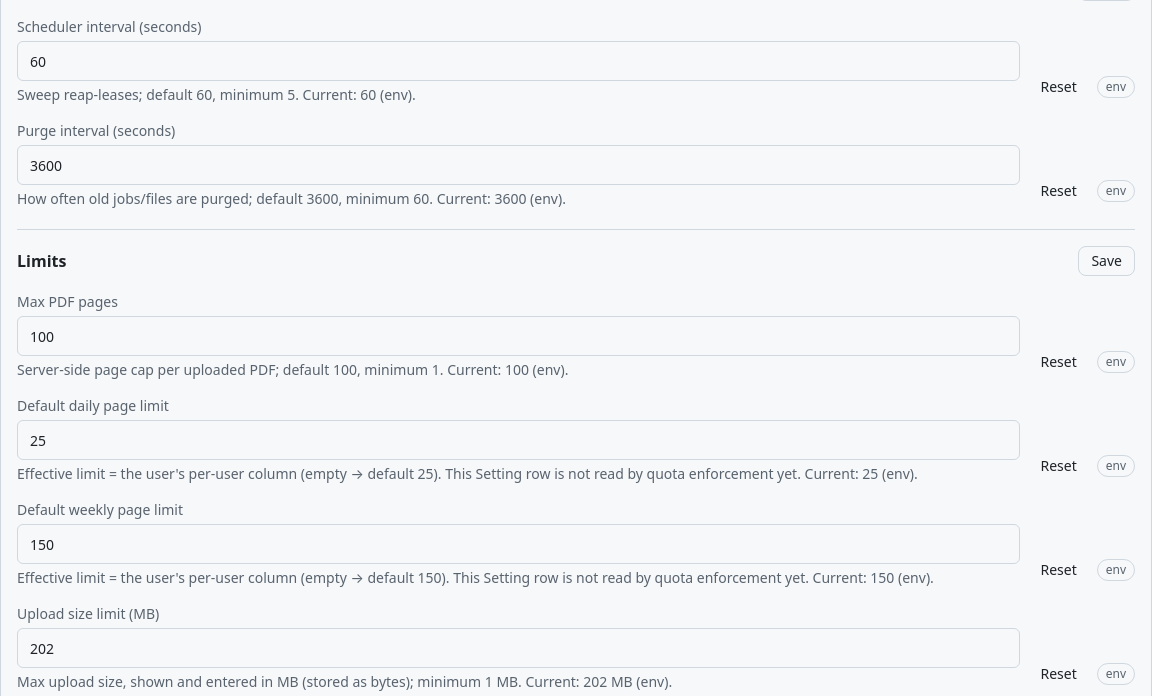
Test: reset về env: DELETE row → badge env
(page scrolled)
Replace the text in the number field with test id "input-max-pages" with "42" at [519, 336], box [17, 316, 1020, 356]
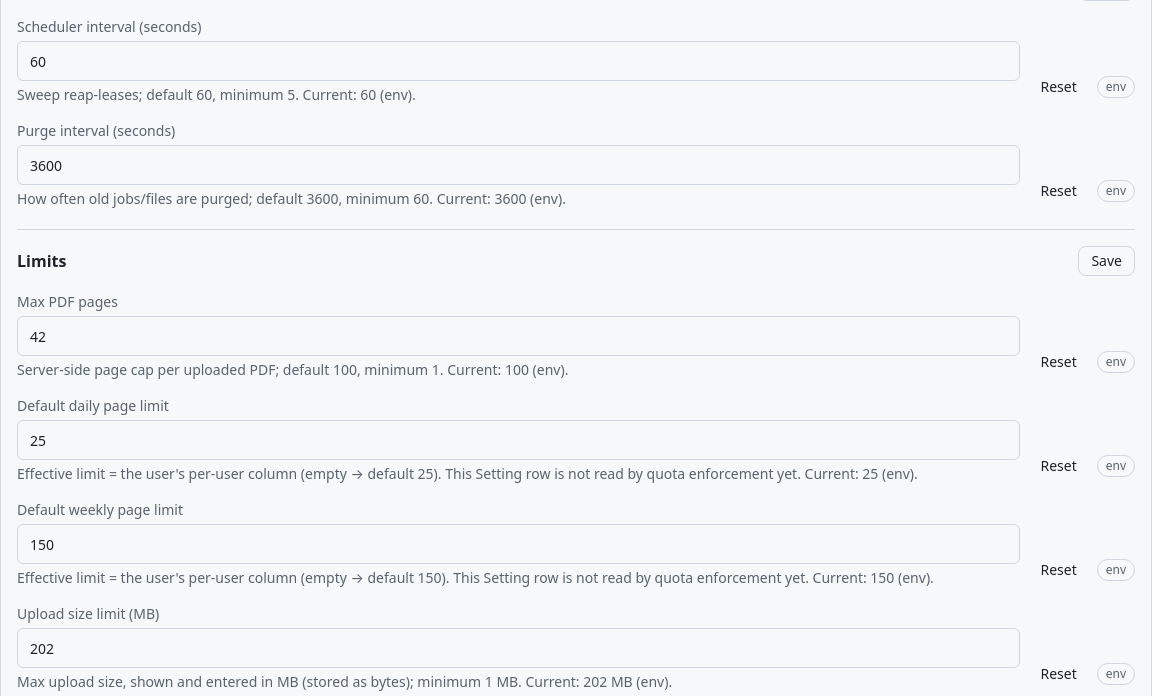
Click the button with test id "btn-save-limits".
click(1107, 261)  # box [1078, 246, 1135, 276]
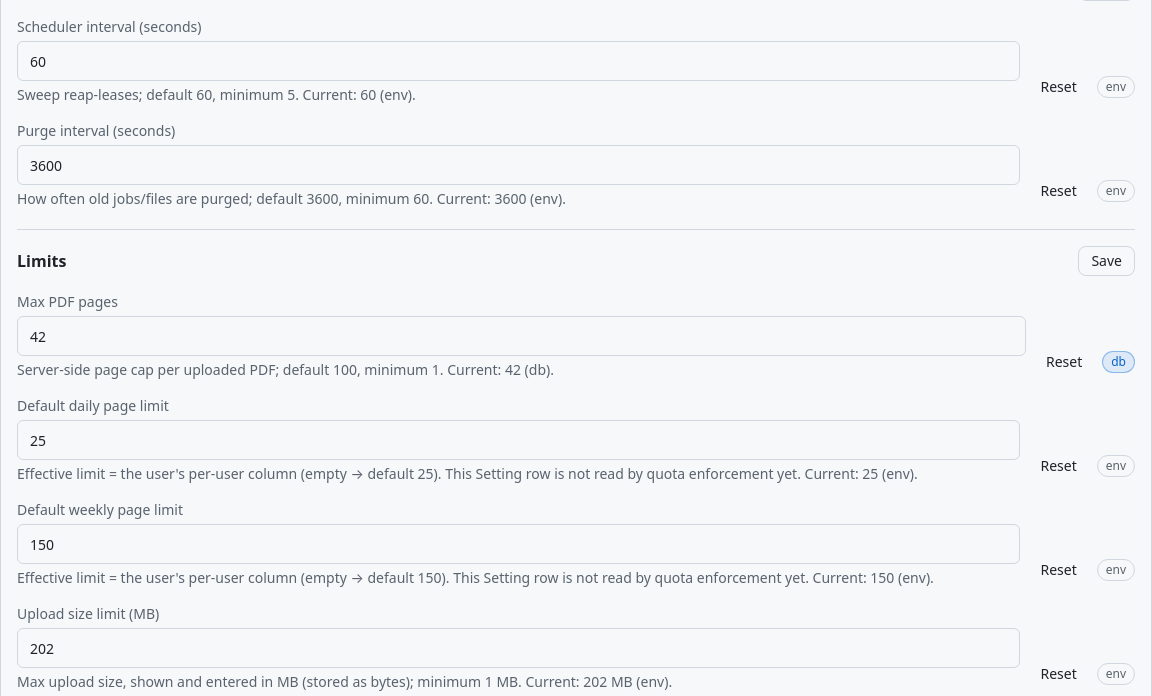
Expected: the text with test id "source-max-pages" reads "db", [1111, 353, 1126, 370]
# reset → DELETE + badge về env
Click the button with test id "reset-max-pages".
click(1064, 362)  # box [1034, 348, 1094, 376]
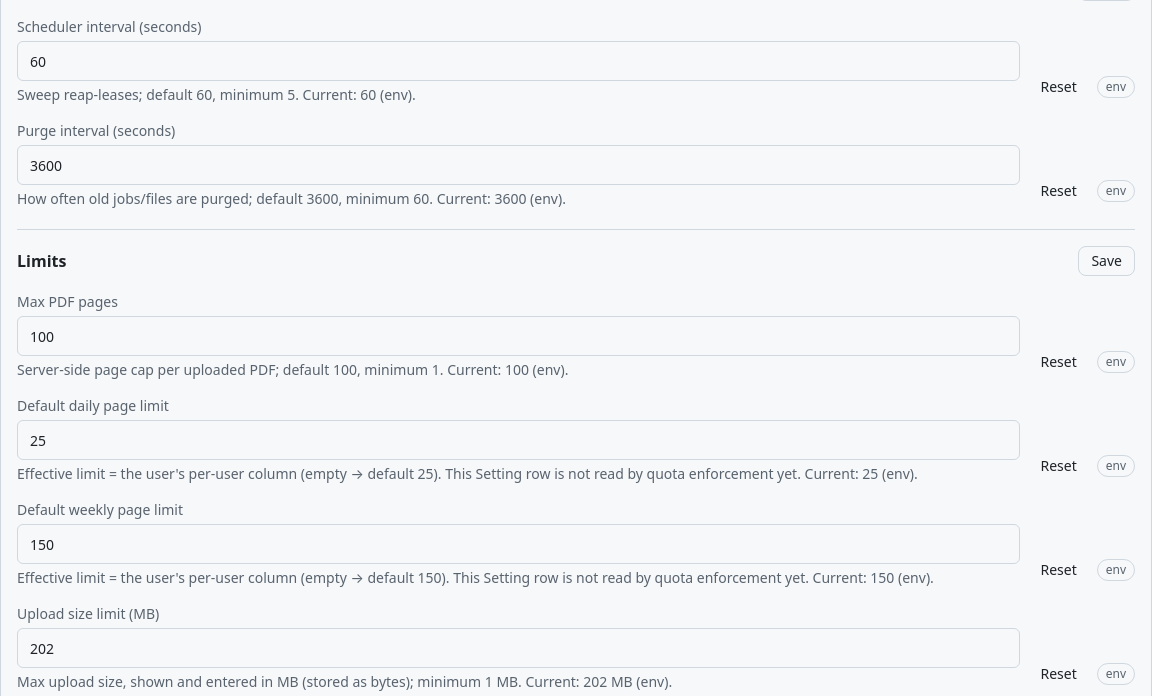
Expected: the text with test id "source-max-pages" reads "env", [1106, 353, 1126, 370]
Expected: the number field with test id "input-max-pages" holds "100", [17, 316, 1020, 356]
